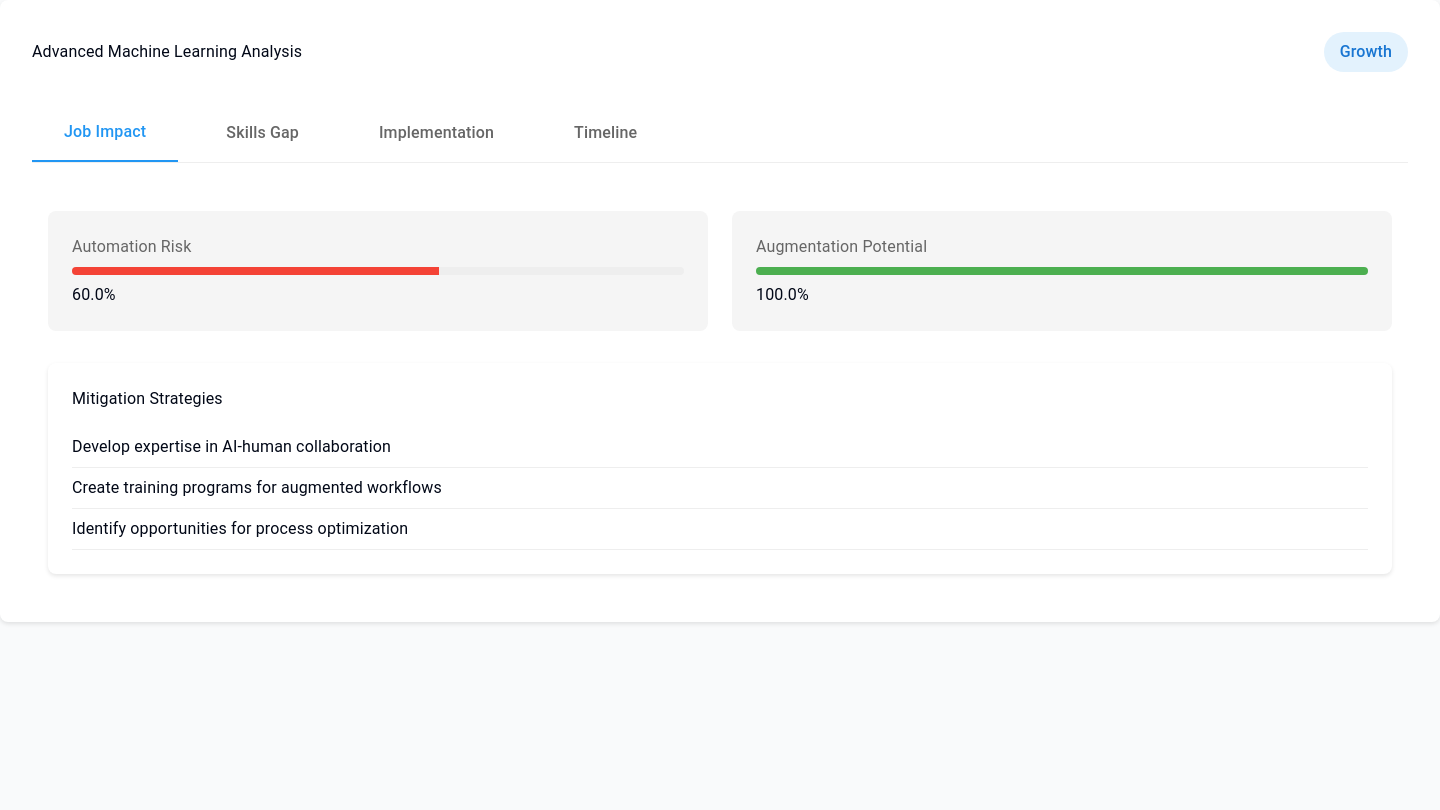
EmergingTechAnalysis Component › shows implementation recommendations
The width and height of the screenshot is (1440, 810).
Click the button "Implementation".
click(437, 133)  # box x1=347 y1=104 x2=526 y2=162
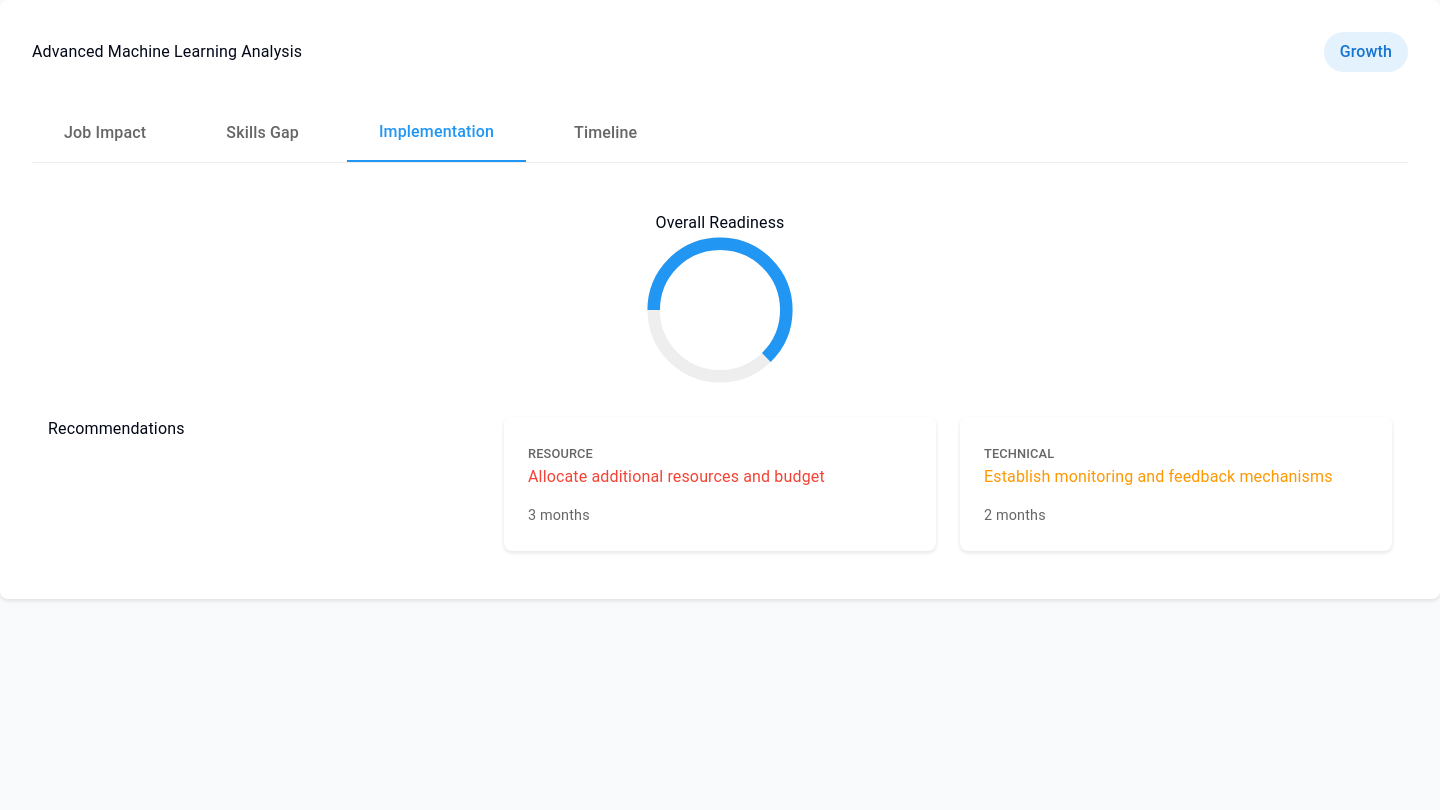
Result: the heading "Recommendations" is shown at x1=48 y1=419 x2=185 y2=438
